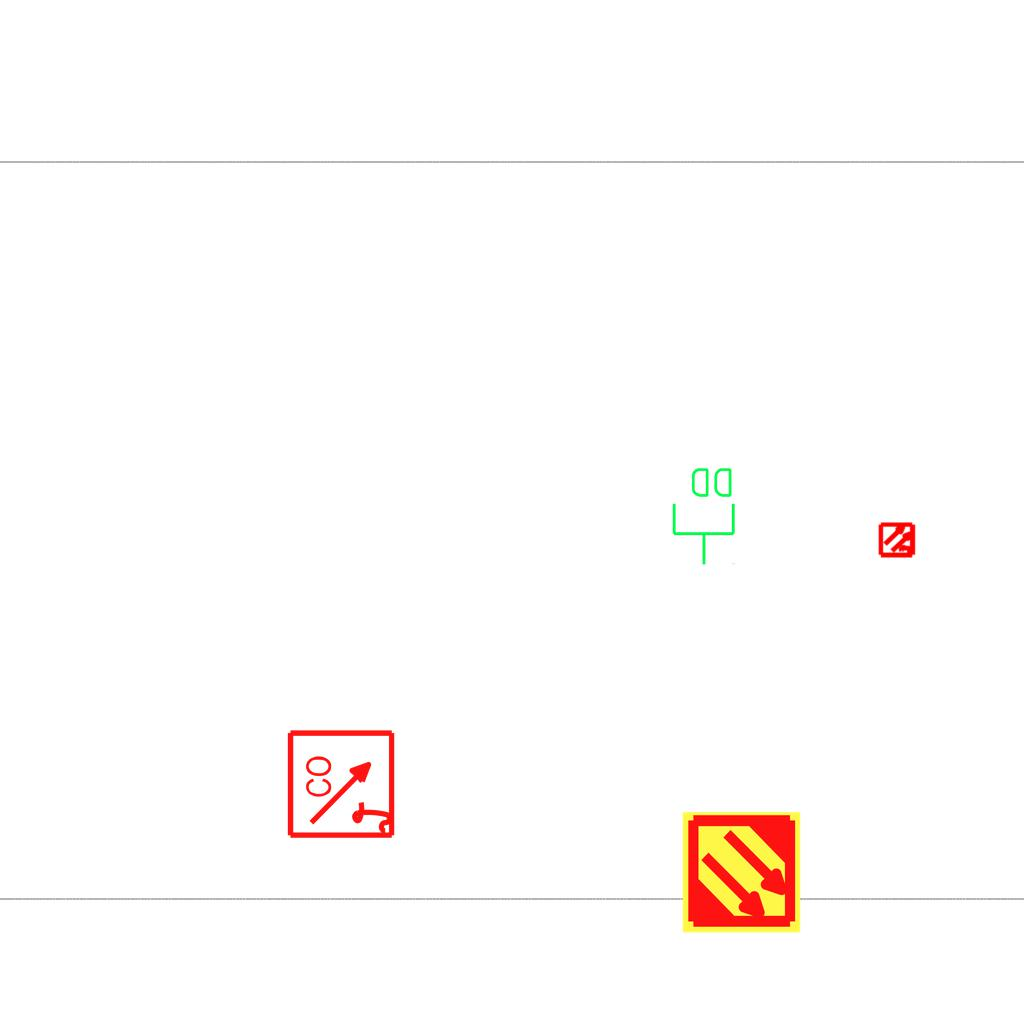ASR_Ansaugrauchmelder: (679, 810, 804, 935)
Datenanschluss_zweifach: (670, 464, 739, 567)
OT_Multisensormelder_(Kombination_RMO_WMD): (870, 512, 926, 568)
ROA_Rauchmelder_optisch_mit_Signalgeber_(Sockelsirene): (286, 727, 399, 840)
